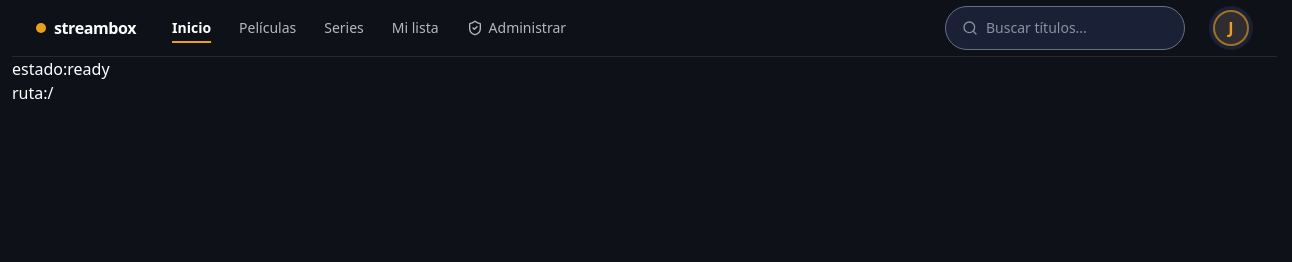
Test: Navbar: menú de usuario › a un administrador le muestra su nombre y la etiqueta «Administrador» como texto
Click the button named "Menú de usuario": [1231, 28] box [1209,6,1253,50]
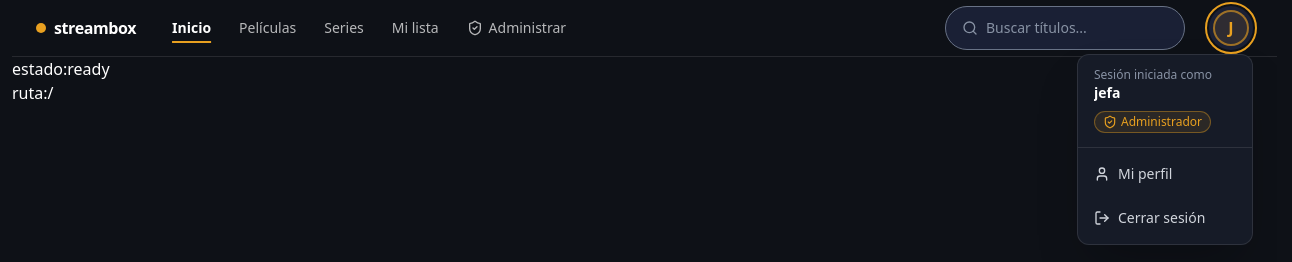
Expected: the text "Administrador" is shown, [1094,111,1211,133]
Expected: the text "jefa" is shown, [1094,83,1120,102]
